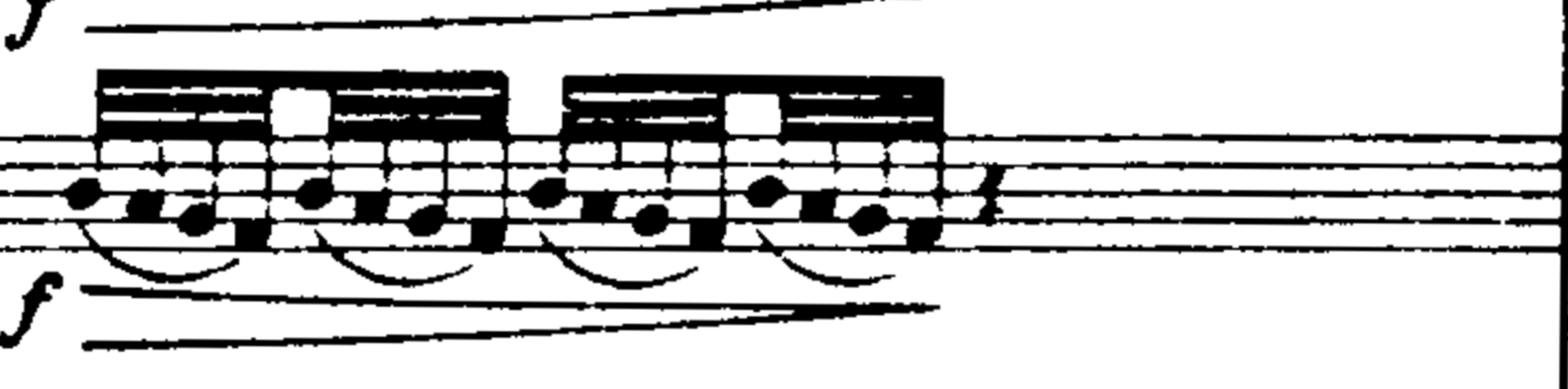accidentalDoubleSharp: (581, 189, 617, 223), (153, 147, 175, 176)
beam: (318, 229, 472, 302), (538, 228, 697, 294), (783, 257, 842, 285)
dynamicF: (0, 270, 59, 348), (5, 0, 56, 50)
ledgerLine: (626, 217, 674, 222), (215, 246, 274, 250)
noteheadBlackInSpace: (905, 217, 942, 249), (126, 189, 163, 220), (354, 192, 390, 222)
noteheadBlackOnLine: (849, 205, 890, 235), (747, 176, 786, 206), (407, 205, 446, 235), (528, 178, 567, 208), (178, 204, 215, 235), (296, 178, 333, 208), (633, 204, 668, 235), (67, 178, 101, 209)
restHBar: (0, 304, 938, 347), (88, 0, 866, 25)
restWhole: (581, 192, 617, 221), (800, 193, 836, 221)
